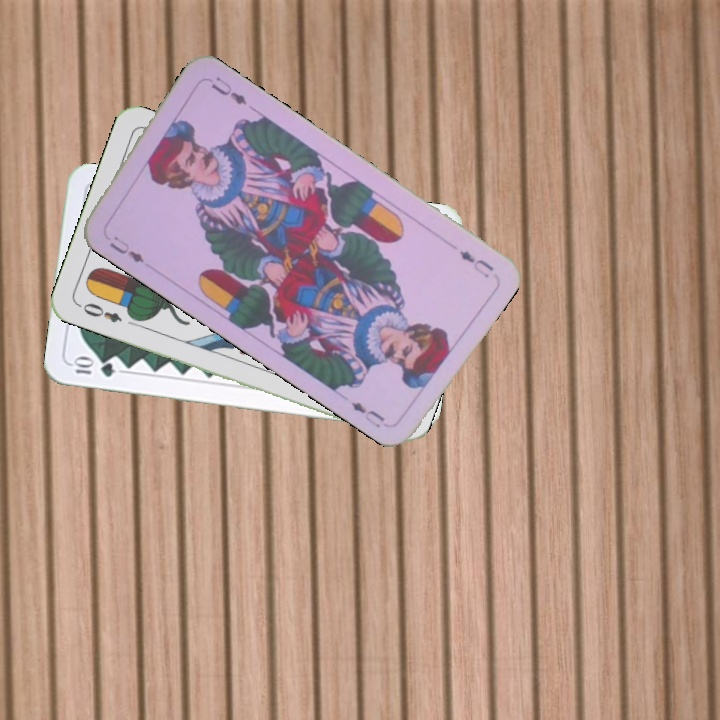EO: (74, 298, 125, 326)
EU: (105, 231, 147, 266), (455, 246, 497, 281)
G10: (68, 355, 118, 380)
